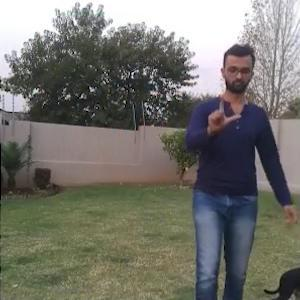land_hand: (204, 84, 245, 136)
